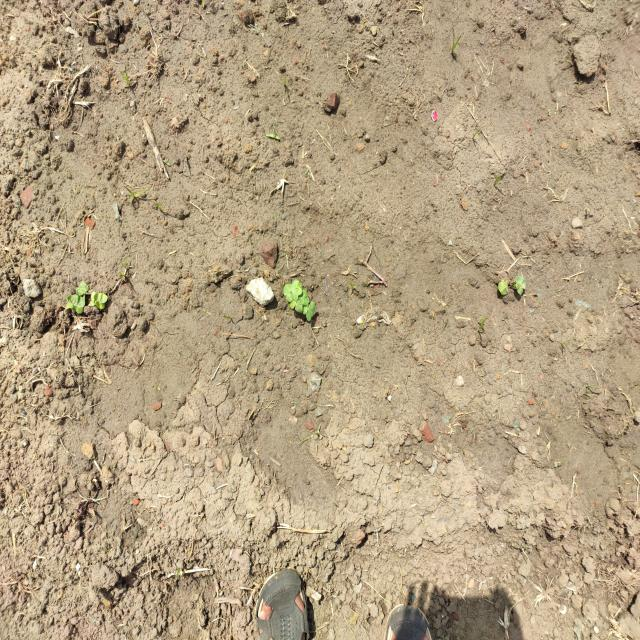seedling: (306, 302, 316, 321), (286, 289, 297, 303), (73, 295, 85, 307), (516, 275, 526, 289), (94, 293, 107, 303), (498, 282, 508, 295), (72, 304, 84, 314), (290, 295, 298, 309), (65, 294, 76, 304), (291, 279, 302, 289), (283, 284, 292, 296), (297, 296, 310, 304), (89, 291, 95, 307), (295, 302, 303, 313), (302, 300, 308, 314), (516, 283, 523, 295), (80, 287, 89, 295), (96, 301, 105, 309), (299, 289, 308, 297), (79, 282, 89, 288), (501, 280, 508, 288), (65, 303, 74, 309), (76, 287, 81, 296), (296, 288, 302, 295)
